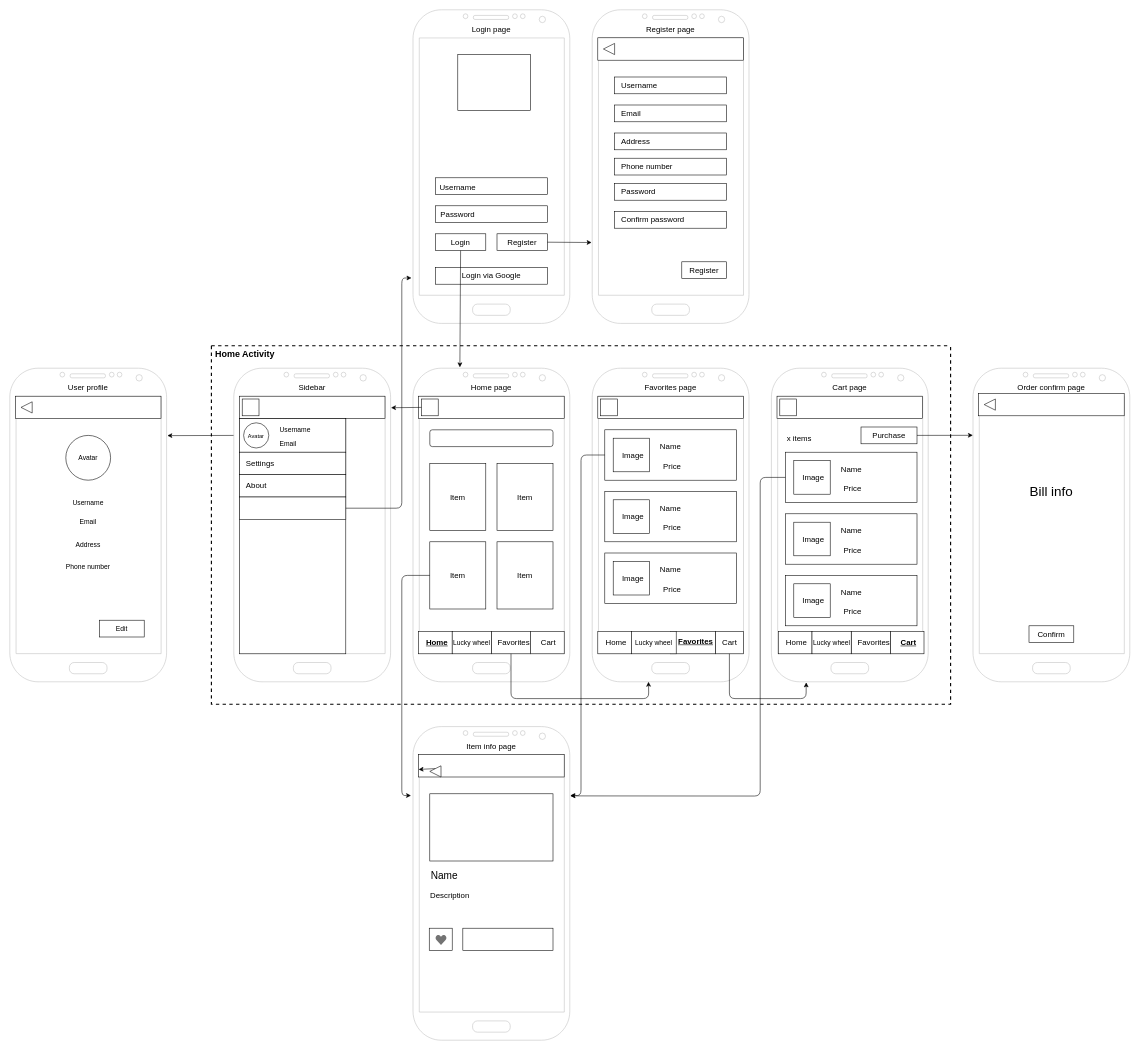
Some shapes in this 1140 by 1050 pixel diagram are drawn without their labels. The box of each missing label's shape, as (x1, y1, x2, y2) in pixels:
Add to cart: (462, 928, 553, 951)
Images: (429, 793, 553, 861)
Logo: (457, 54, 531, 111)
Logout: (239, 496, 346, 519)
Search bar: (429, 429, 553, 447)
